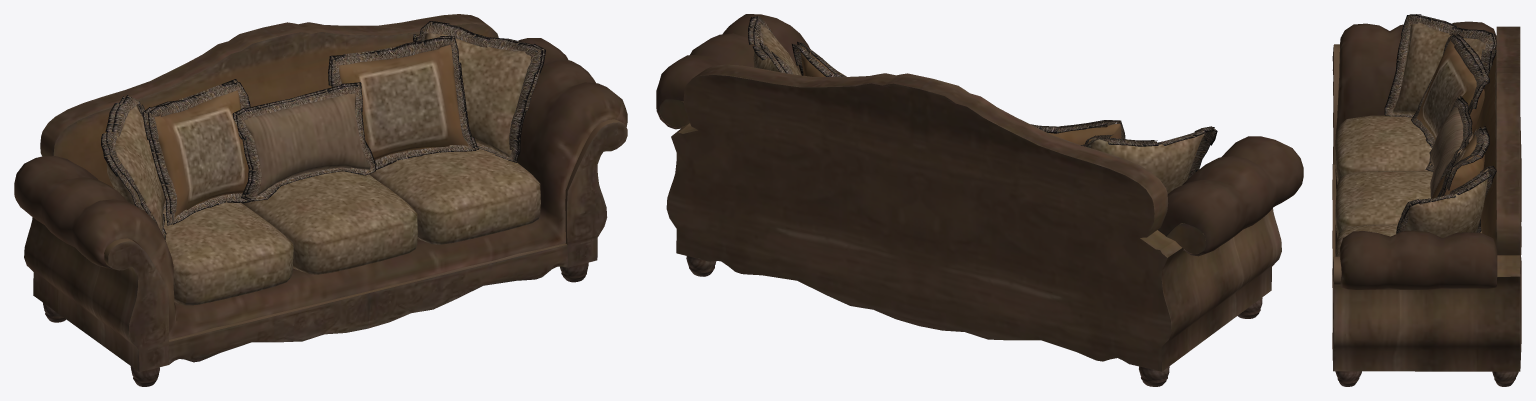
File: sofa_03.glb
3 renders of one model, left to right at view 1: azimuth 30°, elevation 25°; view 2: azimuth 150°, elevation 25°; view 3: azimuth 270°, elevation 25°, orthographic. The views are drawn at different scales.
Parts seen in each view (by area): view 1: sofa_03; view 2: sofa_03; view 3: sofa_03.
Boxes of the visible parts, x1,y1,x2,y2 form: sofa_03: (14,14,627,386); sofa_03: (656,14,1303,386); sofa_03: (1332,14,1521,386).
Bounding box in the file's own units: 2.73 × 1.12 × 0.925.
Materials: 2 (2 with a texture image).
